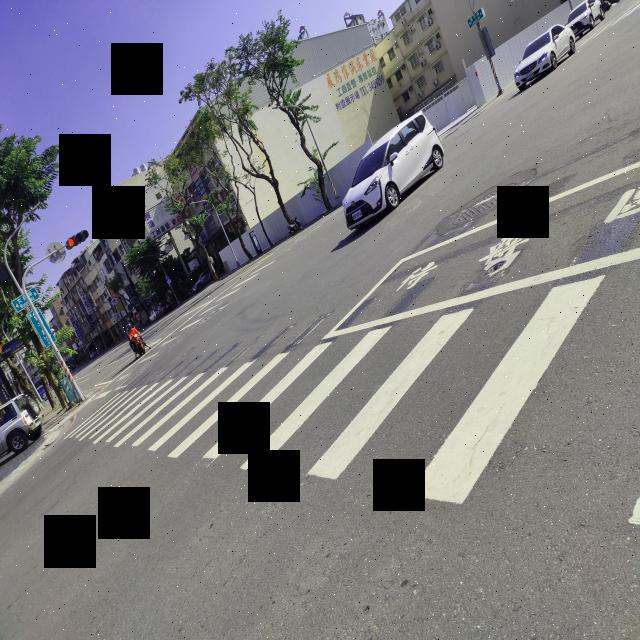zebra crossing: (63, 279, 602, 503), (115, 256, 278, 379)
